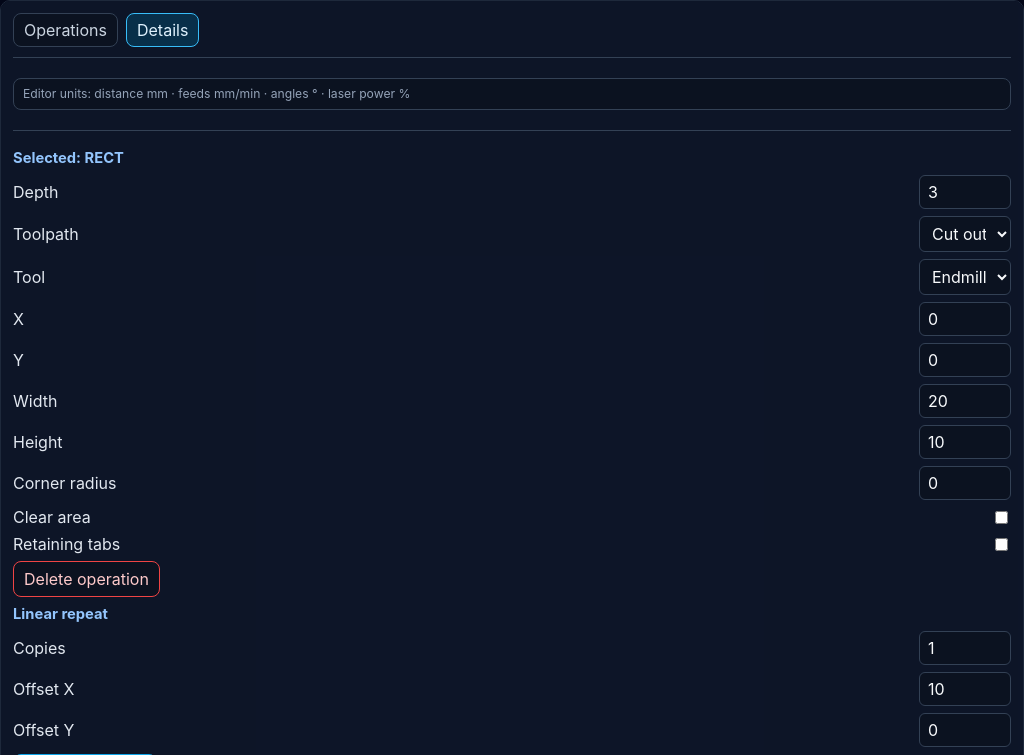
Test: OperationsPanel › separates the operations list and selected details into tabs
The width and height of the screenshot is (1024, 755).
Expected: the tab "Details" is shown, left=126, top=13, right=199, bottom=47
Expected: the text "Operations list" is not shown
Click the tab "Operations" at (66, 30), box left=13, top=13, right=118, bottom=47
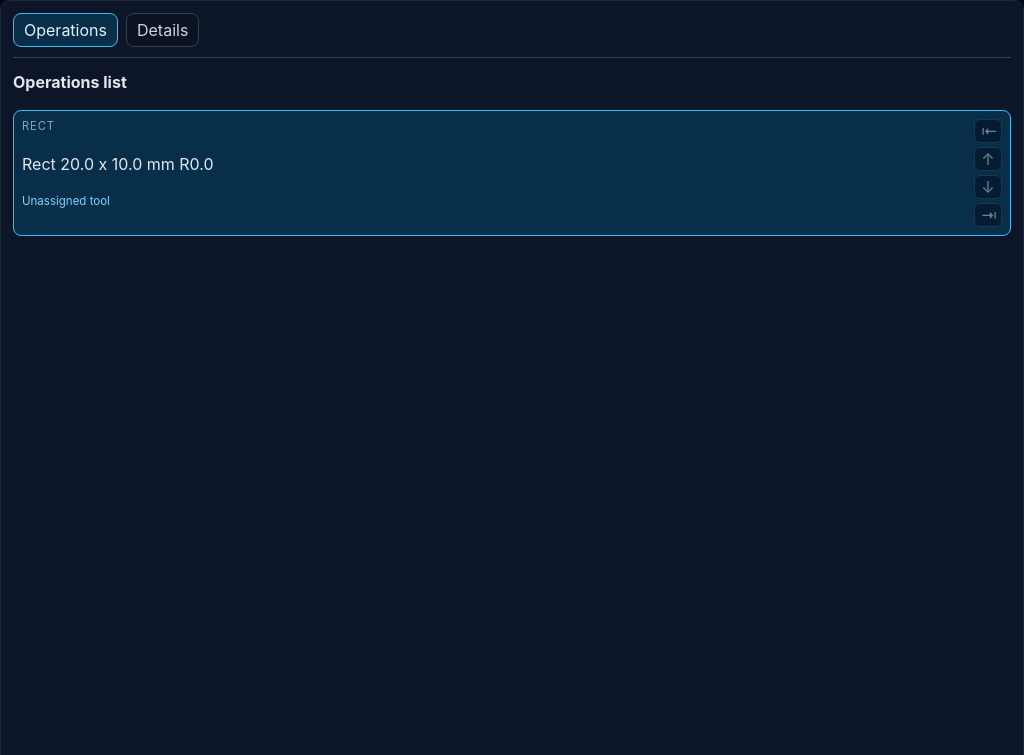
Expected: the heading "Operations list" is shown, left=13, top=72, right=127, bottom=92
Expected: the text labelled "Depth" is gone
